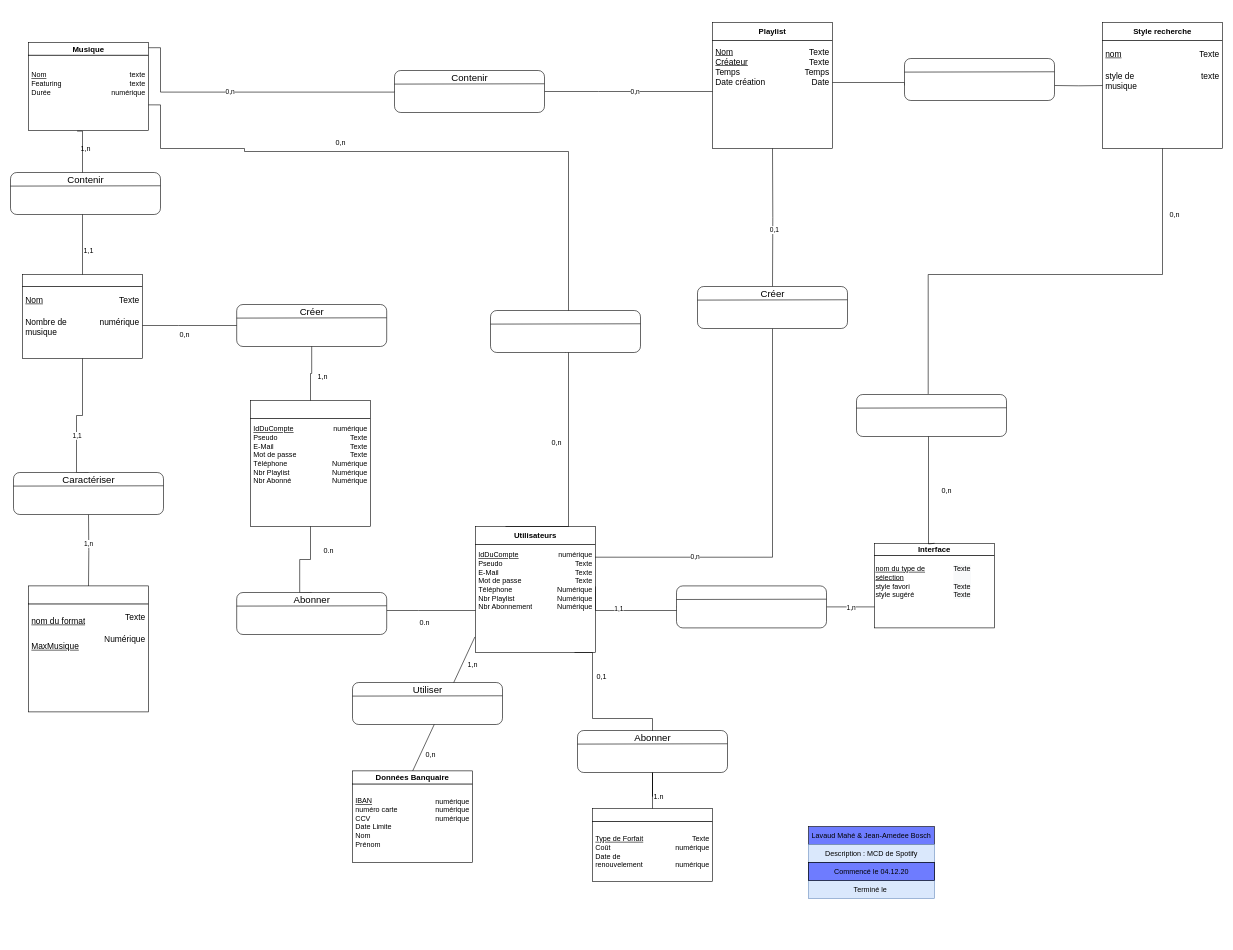
Image size: 1233x950. Some labels were removed from this diagram. Here are the shapes that lost their labels. From the top down, the centre of each, then its label:
the point at 979,79: Thématiser
the point at 82,280: Registre
the point at 565,331: Liker
the point at 310,409: Artistes
the point at 931,415: Afficher
the point at 88,594: Format
the point at 751,606: Adapter
the point at 652,814: Premium
